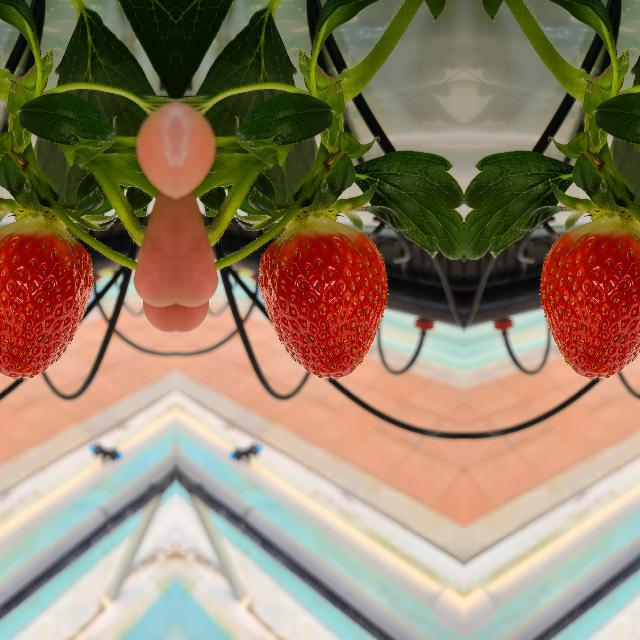Health_100: (256, 222, 388, 381), (537, 221, 640, 380), (0, 221, 94, 380)
